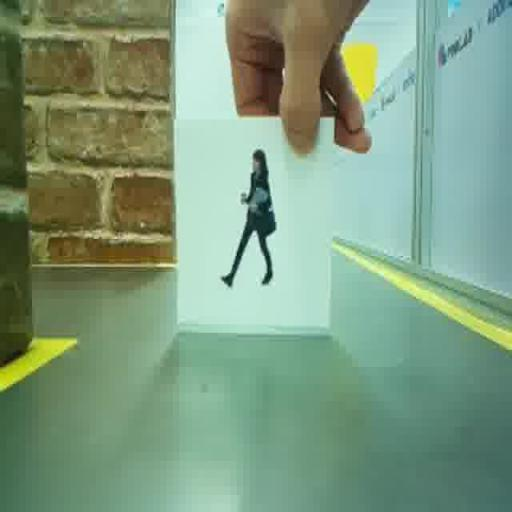human: (221, 149, 275, 287)
